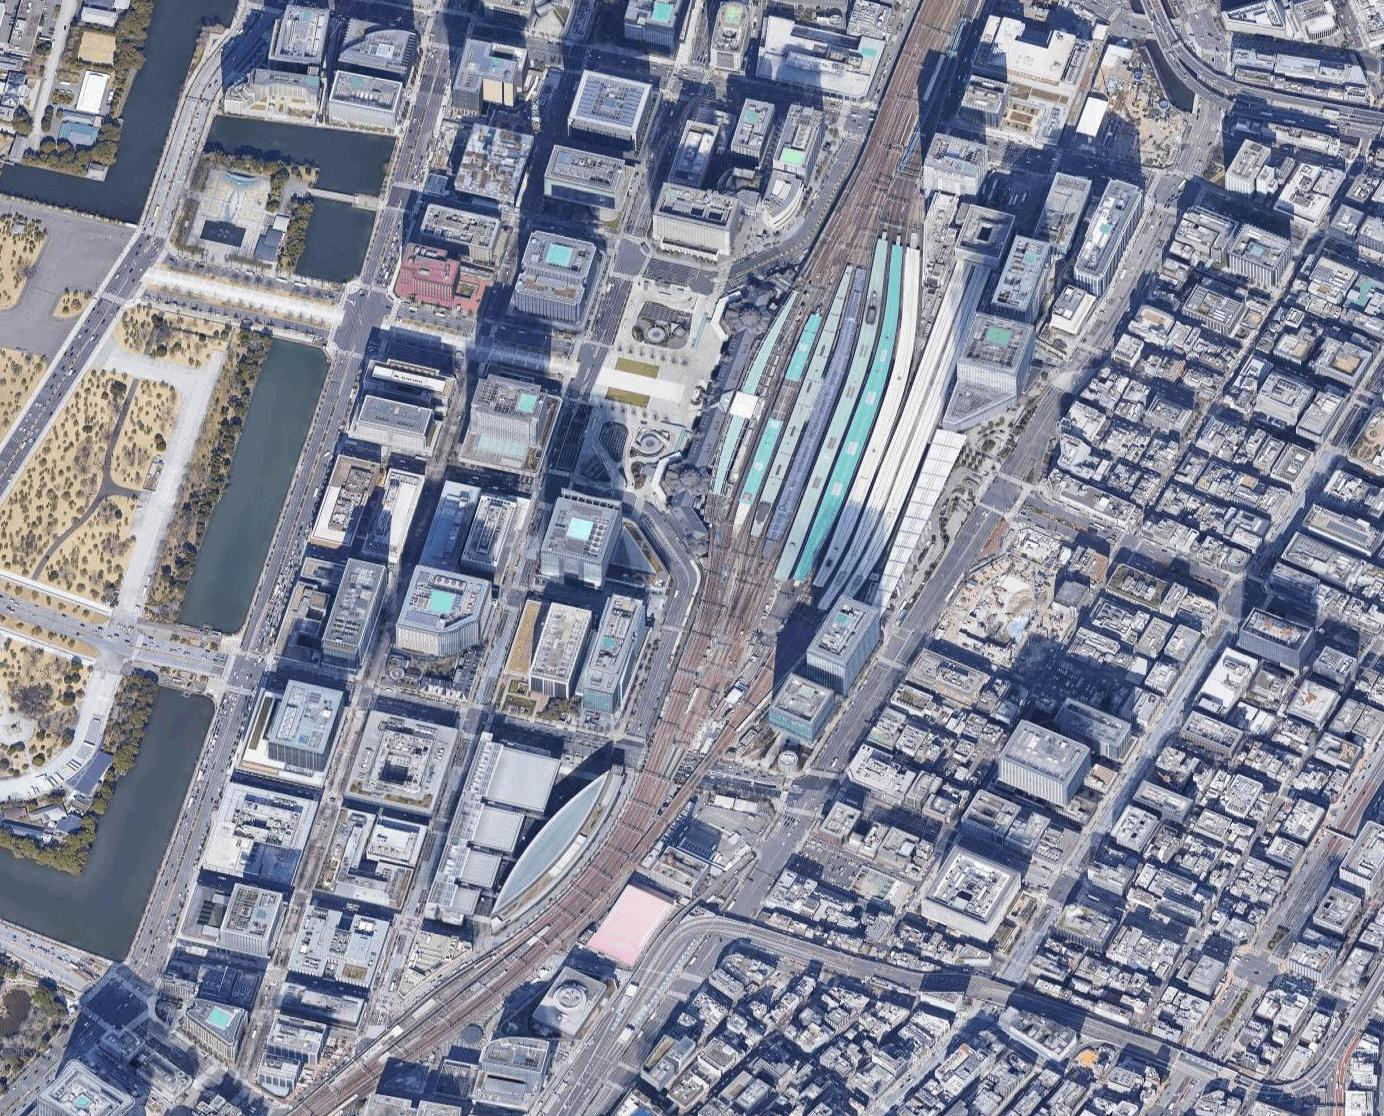bridge: (131, 613, 246, 697), (257, 264, 372, 348), (308, 181, 382, 215)
train_station: (687, 229, 967, 648)
